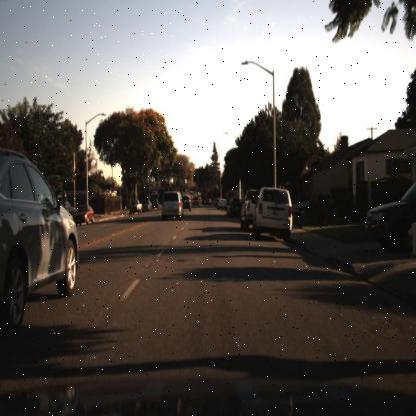car: (0, 147, 81, 333), (364, 177, 415, 258), (249, 183, 296, 242), (238, 188, 259, 230), (159, 191, 183, 223), (72, 202, 96, 228), (74, 202, 96, 224), (226, 193, 240, 218), (176, 193, 190, 214), (126, 199, 143, 215), (149, 195, 161, 214), (130, 198, 142, 216), (141, 195, 153, 211), (202, 198, 212, 206)
